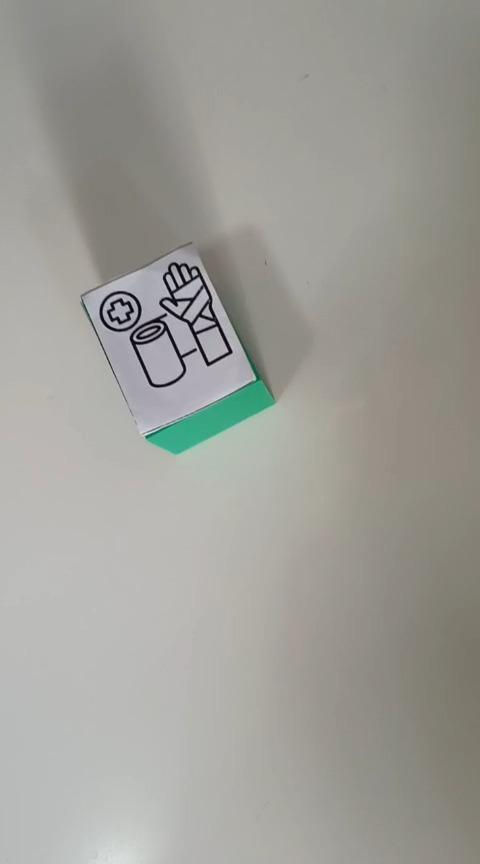Bandages: (79, 240, 275, 454)
